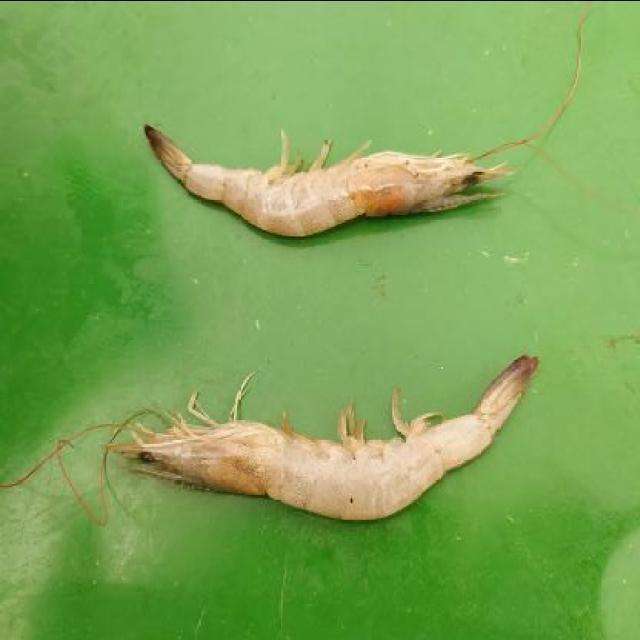shrimp: (80, 343, 548, 524), (126, 111, 522, 244)
